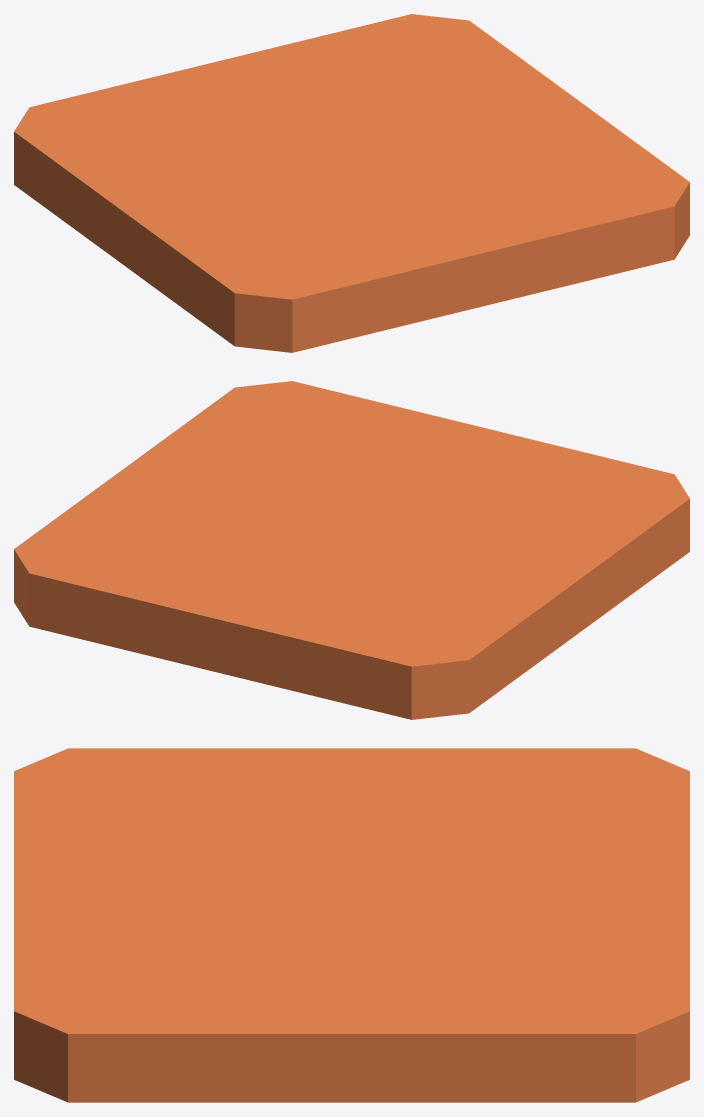
The model's file is gach2.fbx.
The picture shows the model from 3 angles, top to bottom: view 1: azimuth 30°, elevation 25°; view 2: azimuth 150°, elevation 25°; view 3: azimuth 270°, elevation 25°; orthographic projection. The views are drawn at different scales.
Visible parts, largest first — view 1: gach2; view 2: gach2; view 3: gach2.
Part boxes in pixels (bbox=[...]): gach2: bbox=[14, 14, 689, 352]; gach2: bbox=[14, 381, 689, 719]; gach2: bbox=[14, 748, 689, 1102].
Bounding box in the file's own units: 106 × 11.83 × 106.
